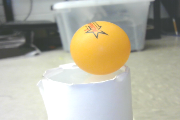PingPongBall: (71, 20, 130, 75)
